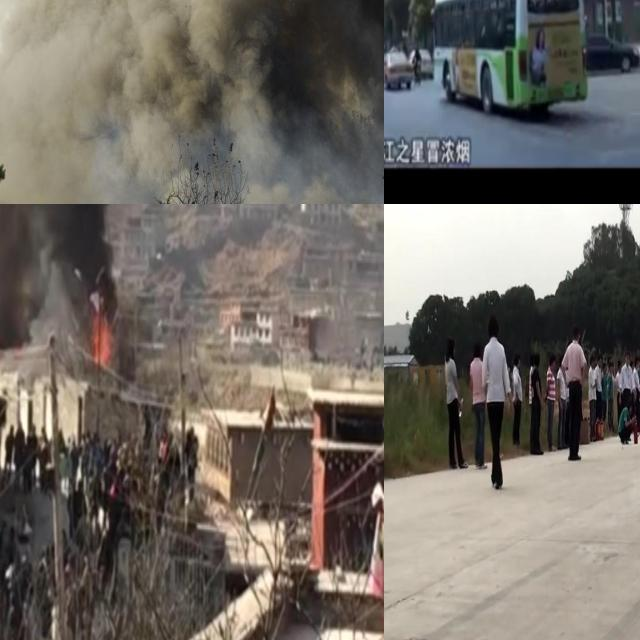fire: (90, 312, 114, 366)
smoke: (0, 0, 384, 204), (0, 204, 132, 349)
